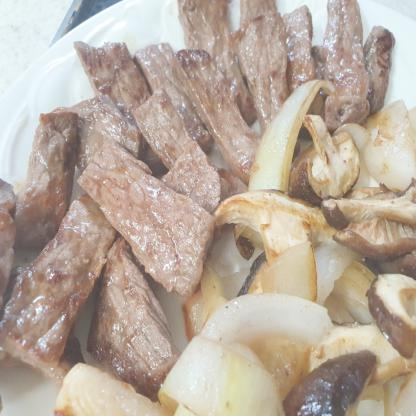Carne: (72, 128, 213, 295), (1, 200, 97, 372), (98, 236, 186, 380), (176, 47, 256, 194), (178, 0, 251, 131), (140, 92, 223, 204), (134, 45, 200, 174), (73, 36, 143, 157), (21, 106, 75, 258), (233, 0, 292, 121), (321, 0, 368, 122), (276, 8, 316, 87), (362, 26, 394, 109)
